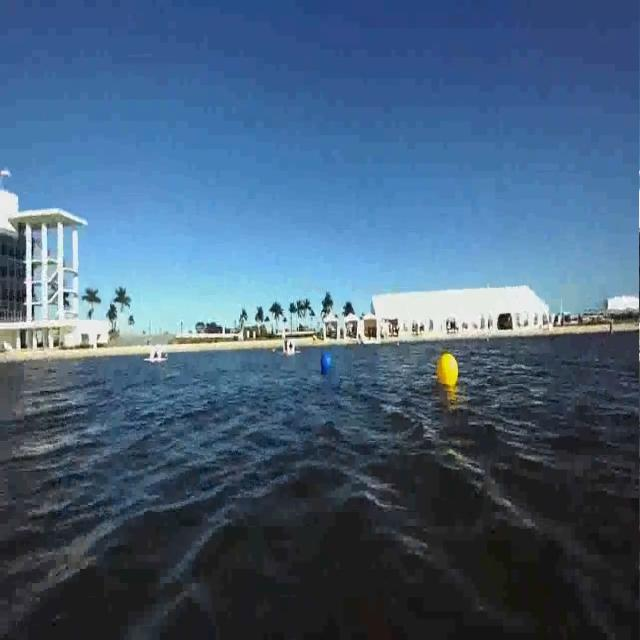blue-buoy: (313, 342, 336, 379)
yellow-buoy: (430, 346, 460, 398)
